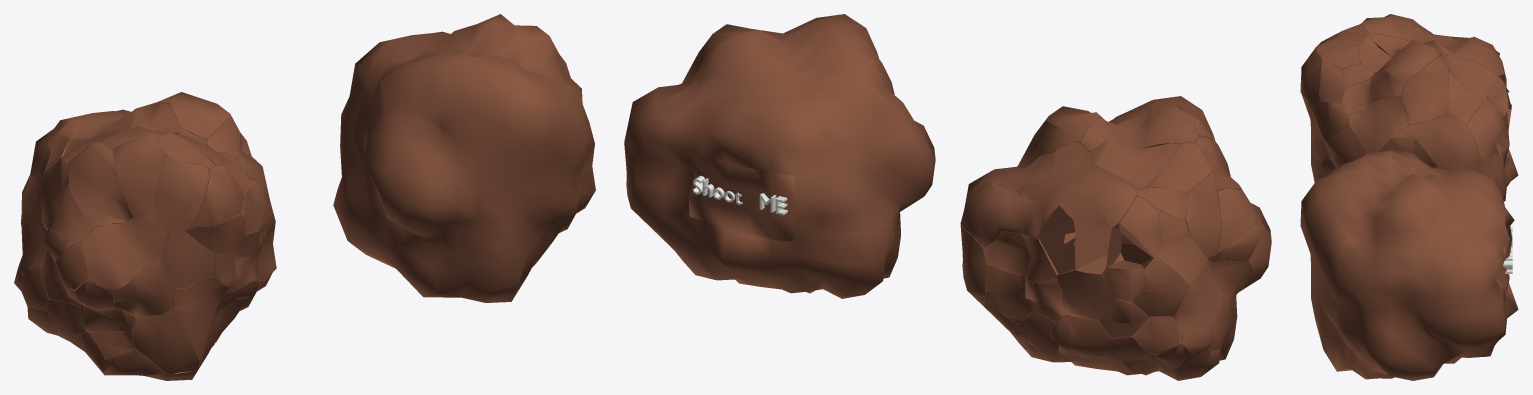
File: Rocks.fbx
3 views of the same model, side by side, from view 1: azimuth 30°, elevation 25°; view 2: azimuth 150°, elevation 25°; view 3: azimuth 270°, elevation 25° (orthographic). The views are drawn at different scales.
Parts seen in each view (by area): view 1: Cube, Cube.001_cell.023, Cube.001_cell.024, Cube.001_cell.051, Cube.001_cell.066, Cube.001_cell.010, Cube.001_cell.052, Cube.001_cell.094, Cube.001_cell.089, Cube.001_cell.085, Cube.001_cell.049, Cube.001_cell.086 (+33 smaller); view 2: Cube, Cube.001_cell.071, Cube.001_cell.082, Cube.001_cell.042, Cube.001_cell.053, Cube.001_cell.055, Cube.001_cell.074, Cube.001_cell.041, Cube.001_cell.096, Cube.001_cell.022, Cube.001_cell.076, Cube.001_cell.013 (+33 smaller); view 3: Cube, Cube.001_cell.093, Cube.001_cell.058, Cube.001_cell.038, Cube.001_cell.055, Cube.001_cell.085, Cube.001_cell.042, Cube.001_cell.007, Cube.001_cell.071, Cube.001_cell.033, Cube.001_cell.087, Cube.001_cell.089 (+20 smaller).
Part boxes in pixels (x1,y1,x2,y2): Cube: [333, 14, 595, 302]; Cube.001_cell.023: [81, 217, 168, 292]; Cube.001_cell.024: [67, 142, 134, 227]; Cube.001_cell.051: [151, 155, 209, 234]; Cube.001_cell.066: [112, 138, 165, 222]; Cube.001_cell.010: [131, 310, 199, 374]; Cube.001_cell.052: [112, 257, 173, 318]; Cube.001_cell.094: [163, 230, 215, 288]; Cube.001_cell.089: [193, 165, 243, 226]; Cube.001_cell.085: [158, 92, 231, 139]; Cube.001_cell.049: [45, 184, 94, 242]; Cube.001_cell.086: [172, 290, 226, 364]; Cube: [624, 14, 935, 298]; Cube.001_cell.071: [1060, 165, 1137, 227]; Cube.001_cell.082: [1090, 140, 1182, 188]; Cube.001_cell.042: [1017, 141, 1092, 205]; Cube.001_cell.053: [984, 231, 1057, 282]; Cube.001_cell.055: [960, 181, 1017, 247]; Cube.001_cell.074: [1185, 172, 1221, 261]; Cube.001_cell.041: [985, 263, 1037, 323]; Cube.001_cell.096: [1057, 270, 1113, 321]; Cube.001_cell.022: [1172, 261, 1220, 335]; Cube.001_cell.076: [1146, 142, 1212, 191]; Cube.001_cell.013: [1145, 106, 1198, 147]; Cube: [1300, 148, 1518, 380]; Cube.001_cell.093: [1401, 56, 1449, 124]; Cube.001_cell.058: [1409, 115, 1480, 163]; Cube.001_cell.038: [1349, 96, 1408, 152]; Cube.001_cell.055: [1467, 100, 1506, 158]; Cube.001_cell.085: [1379, 40, 1440, 83]; Cube.001_cell.042: [1440, 54, 1498, 100]; Cube.001_cell.007: [1447, 70, 1483, 125]; Cube.001_cell.071: [1453, 36, 1504, 75]; Cube.001_cell.033: [1313, 100, 1349, 141]; Cube.001_cell.087: [1319, 61, 1346, 103]; Cube.001_cell.089: [1300, 53, 1322, 106].
Bounding box in the file's own units: 411 × 169 × 160.
